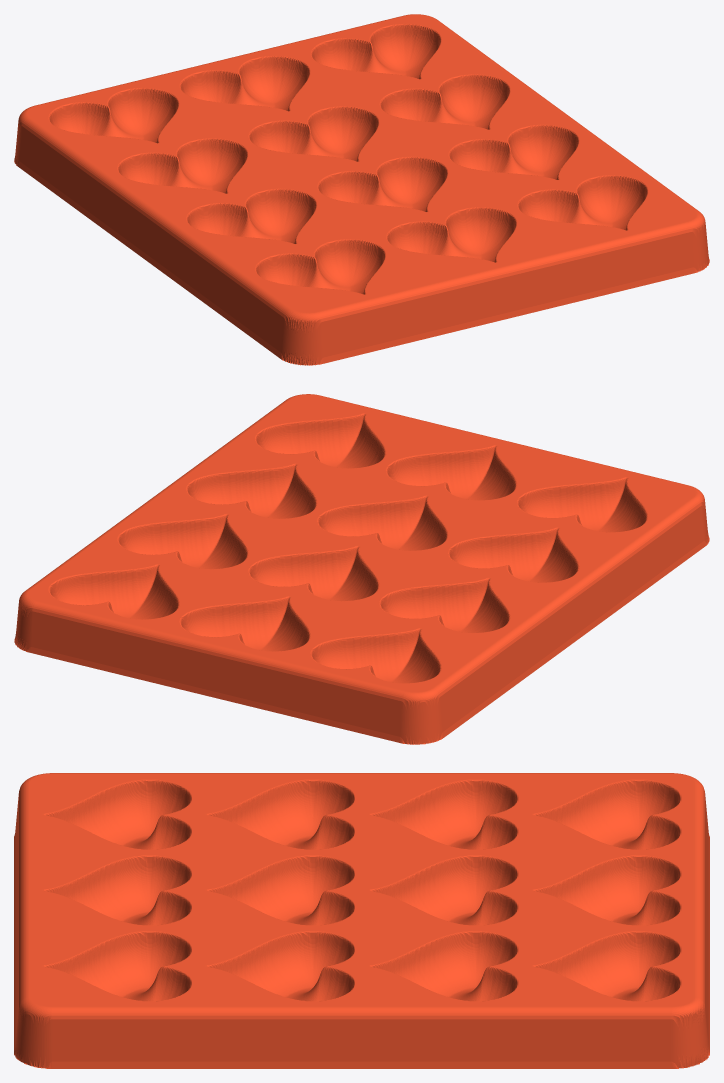
Rendered from mold.glb.
3 renders of one model, top to bottom at view 1: azimuth 30°, elevation 25°; view 2: azimuth 150°, elevation 25°; view 3: azimuth 270°, elevation 25°, orthographic. The views are drawn at different scales.
Visible parts, largest first — view 1: geometry_0; view 2: geometry_0; view 3: geometry_0.
Part boxes in pixels (x1=…): geometry_0: x1=14, y1=14, x2=709, y2=365; geometry_0: x1=14, y1=394, x2=709, y2=744; geometry_0: x1=14, y1=773, x2=709, y2=1068.
Bounding box in the file's own units: 0.1374 × 0.0145 × 0.1645.
